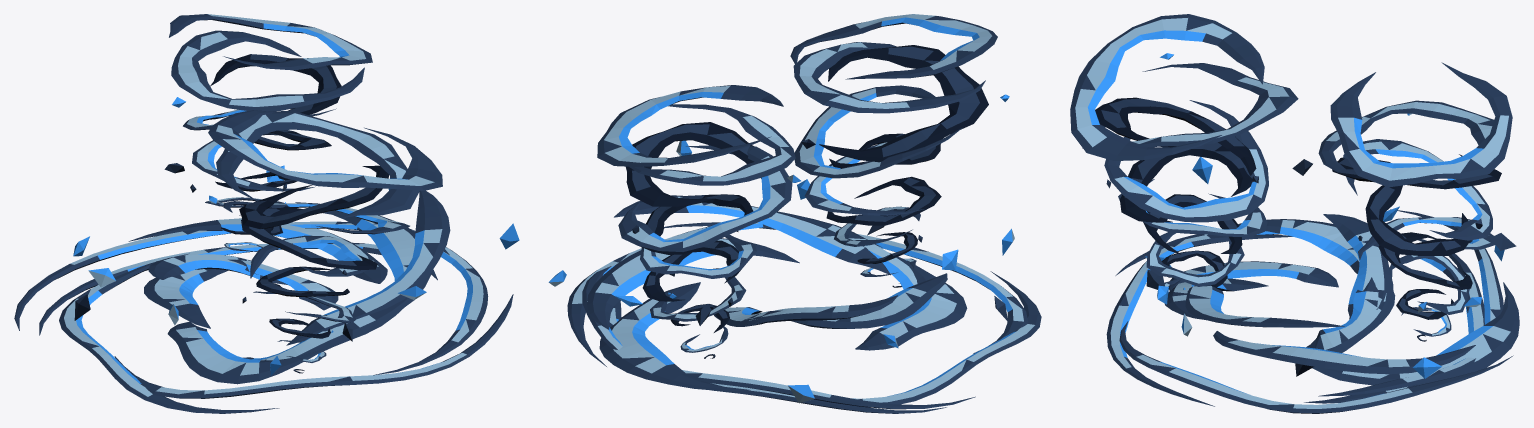
Rendered from Twin_Cyclones.fbx.
The picture shows the model from 3 angles, left to right: view 1: azimuth 30°, elevation 25°; view 2: azimuth 150°, elevation 25°; view 3: azimuth 270°, elevation 25°; orthographic projection.
Parts seen in each view (by area): view 1: TWIN_IMPACT, CYCLONE_A, CYCLONE_B, Orbit_Trail_3, Orbit_Trail_2, Orbit_Trail_5, Orbit_Trail_4, Orbit_Trail_1; view 2: CYCLONE_A, CYCLONE_B, TWIN_IMPACT, Orbit_Trail_2, Orbit_Trail_5, Orbit_Trail_3, Orbit_Trail_4, Orbit_Trail_1; view 3: CYCLONE_A, TWIN_IMPACT, CYCLONE_B, Orbit_Trail_4, Orbit_Trail_3, Orbit_Trail_5, Orbit_Trail_1, Orbit_Trail_2.
Part boxes in pixels (bbox=[...]): TWIN_IMPACT: bbox=[73, 163, 519, 384]; CYCLONE_A: bbox=[208, 110, 442, 373]; CYCLONE_B: bbox=[169, 14, 372, 251]; Orbit_Trail_3: bbox=[114, 294, 513, 398]; Orbit_Trail_2: bbox=[59, 253, 279, 413]; Orbit_Trail_5: bbox=[14, 221, 449, 330]; Orbit_Trail_4: bbox=[322, 212, 488, 375]; Orbit_Trail_1: bbox=[39, 242, 437, 335]; CYCLONE_A: bbox=[790, 14, 1009, 287]; CYCLONE_B: bbox=[597, 85, 800, 358]; TWIN_IMPACT: bbox=[548, 140, 1014, 403]; Orbit_Trail_2: bbox=[852, 271, 1041, 407]; Orbit_Trail_5: bbox=[582, 266, 975, 409]; Orbit_Trail_3: bbox=[664, 222, 1028, 353]; Orbit_Trail_4: bbox=[567, 222, 882, 366]; Orbit_Trail_1: bbox=[609, 300, 946, 413]; CYCLONE_A: bbox=[1070, 14, 1298, 292]; TWIN_IMPACT: bbox=[1145, 156, 1519, 385]; CYCLONE_B: bbox=[1318, 62, 1512, 341]; Orbit_Trail_4: bbox=[1119, 321, 1513, 413]; Orbit_Trail_3: bbox=[1106, 234, 1292, 406]; Orbit_Trail_5: bbox=[1318, 209, 1503, 396]; Orbit_Trail_1: bbox=[1304, 239, 1484, 403]; Orbit_Trail_2: bbox=[1115, 231, 1470, 312].
Bounding box in the file's own units: 807 × 481 × 763.
